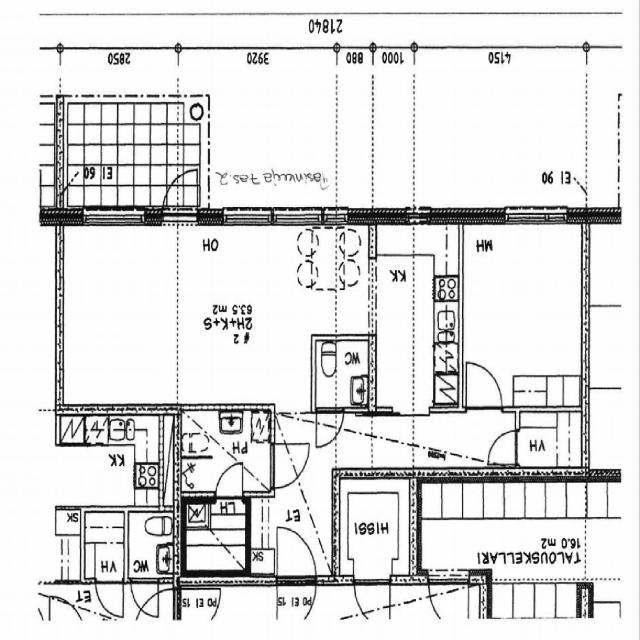door: (278, 528, 316, 586), (278, 576, 316, 634), (164, 165, 198, 225), (466, 363, 502, 413), (270, 444, 310, 487), (216, 459, 242, 503), (316, 407, 343, 446), (489, 431, 519, 464)
